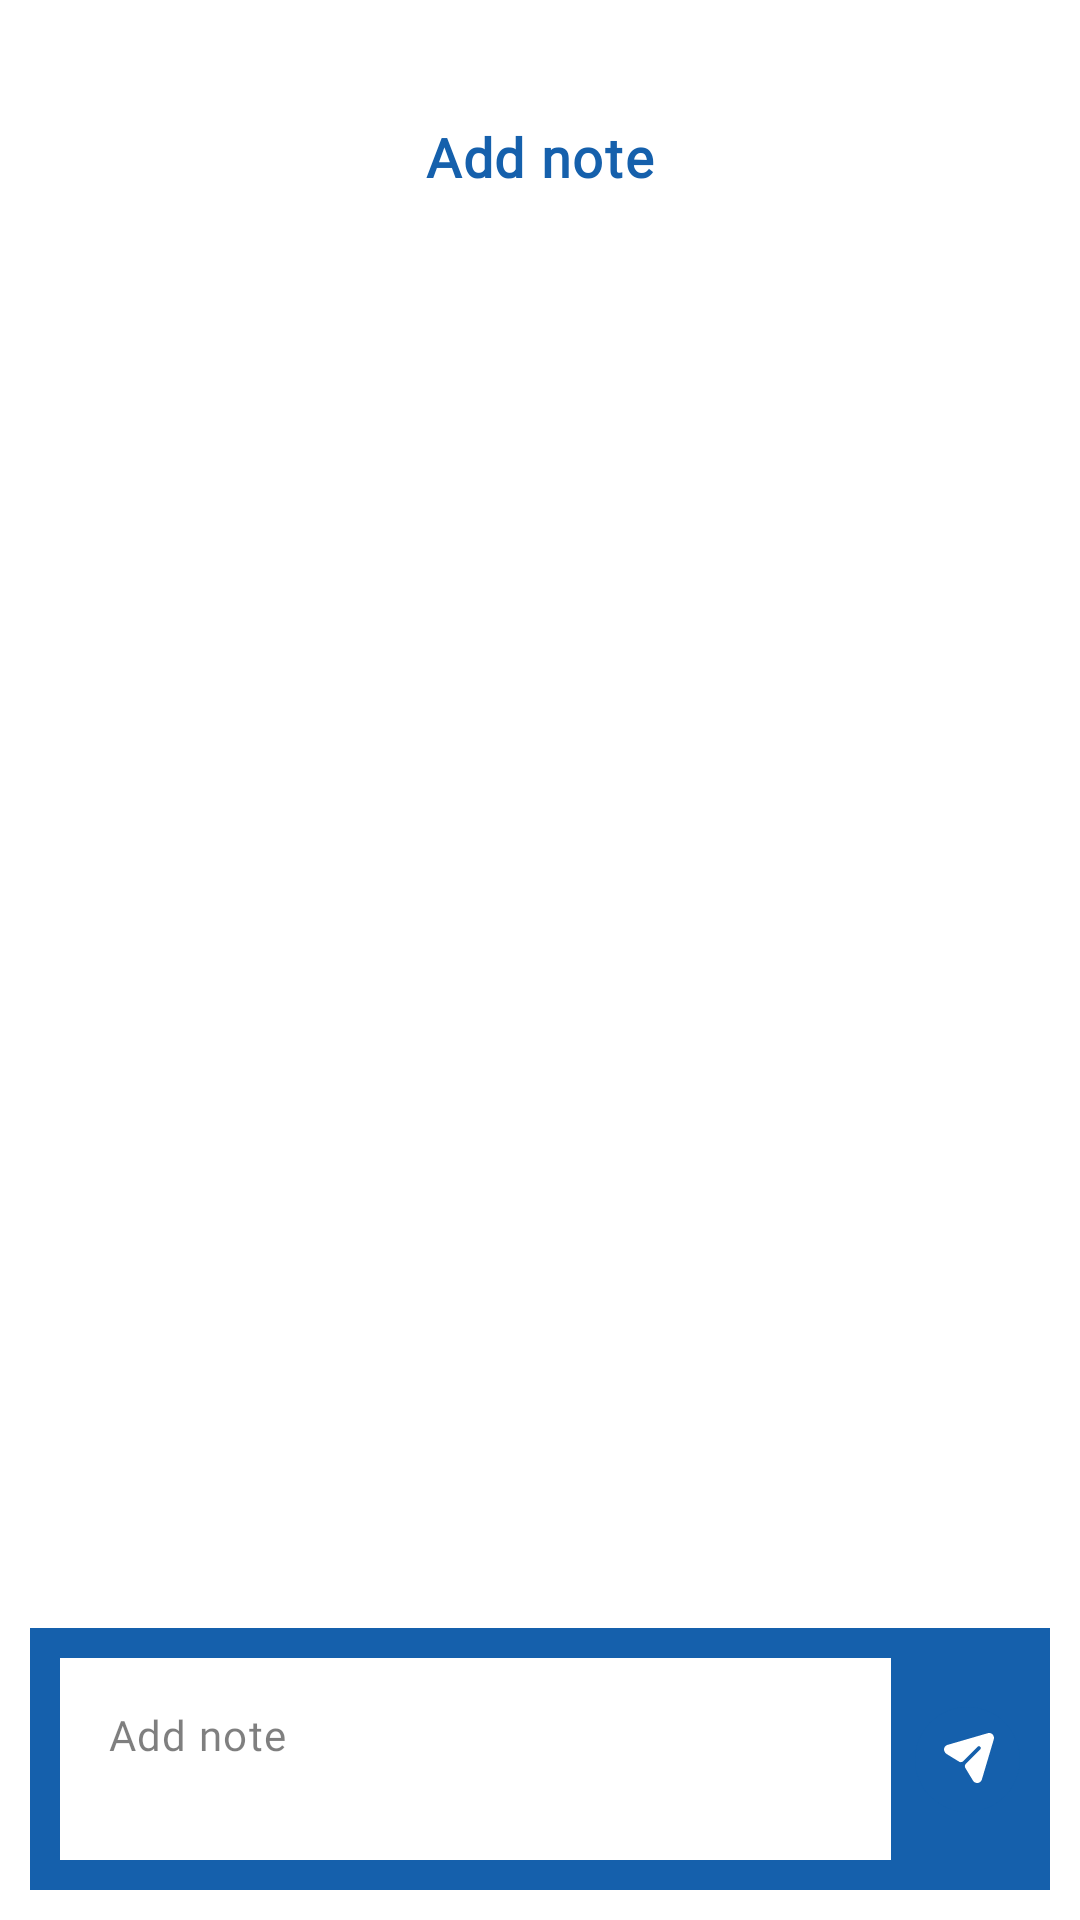

Named icons in this screenshot (1080px x 1920px) and their centers, (x=x, y=y):
sent: (x=969, y=1758)
